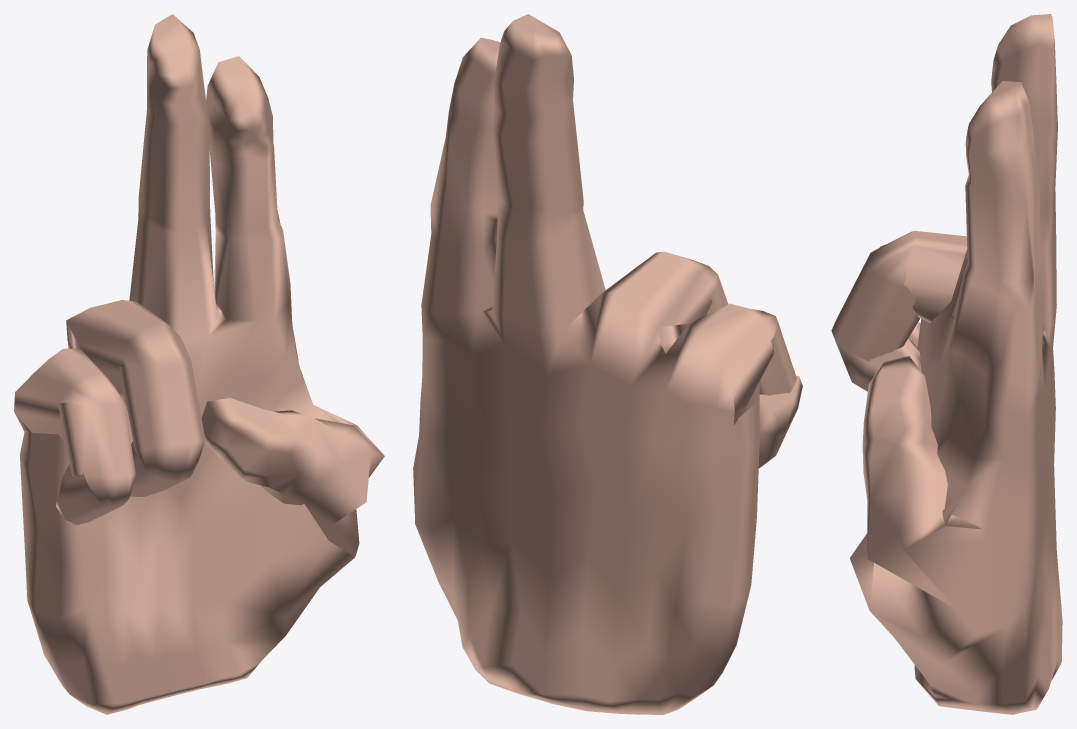
The model's file is MAO_N.obj.
3 views of the same model, side by side, from view 1: azimuth 30°, elevation 25°; view 2: azimuth 150°, elevation 25°; view 3: azimuth 270°, elevation 25° (orthographic). The views are drawn at different scales.
Visible parts, largest first — view 1: mao_dir polySurface1; view 2: mao_dir polySurface1; view 3: mao_dir polySurface1.
Boxes of the visible parts, x1,y1,x2,y2 form: mao_dir polySurface1: [14, 14, 384, 714]; mao_dir polySurface1: [413, 14, 802, 714]; mao_dir polySurface1: [831, 14, 1062, 714].
Size of the model in its own units: 132 by 243 by 74.86.
